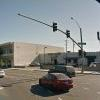Traffic light: (45, 15, 89, 46)
